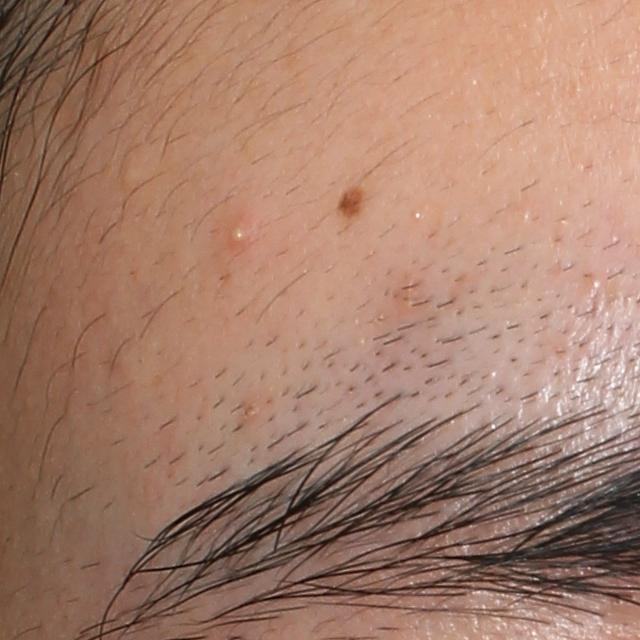comedo: (114, 157, 145, 187)
nevus: (334, 184, 363, 220)
pustule: (223, 217, 253, 251)
